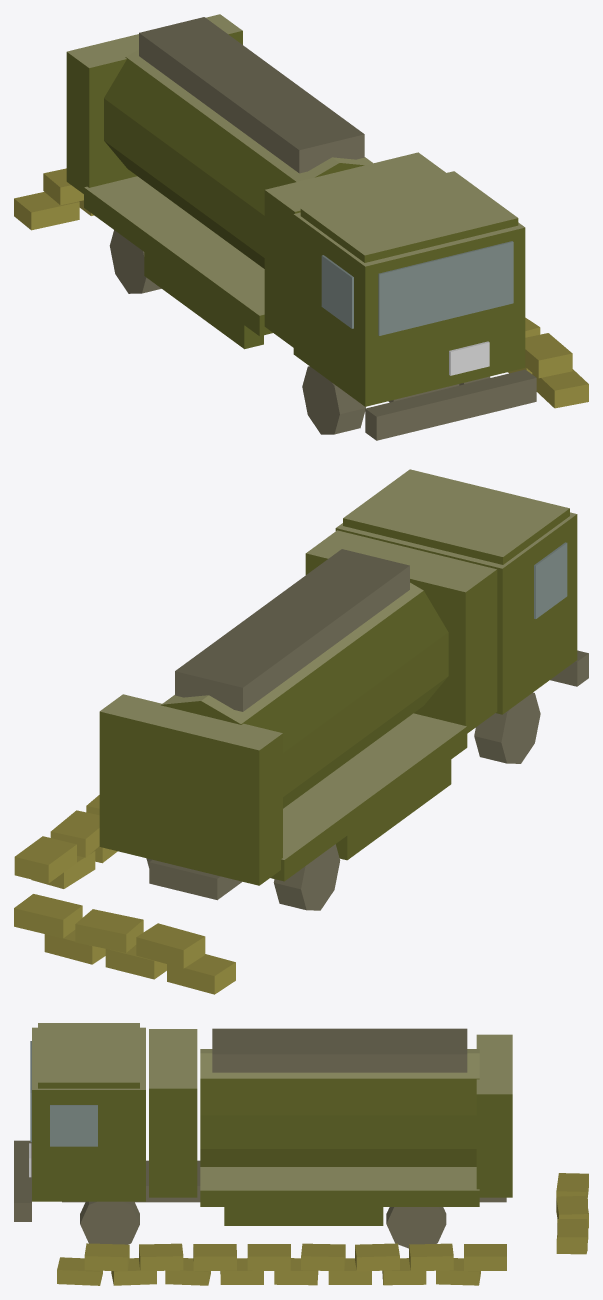
Rendered from SM_CamionCisterna_v2_Protegido_LOD1.fbx.
3 views of the same model, one above another, from view 1: azimuth 30°, elevation 25°; view 2: azimuth 150°, elevation 25°; view 3: azimuth 270°, elevation 25° (orthographic). The views are drawn at different scales.
Parts seen in each view (by area): view 1: SM_camion_cisterna_v2_LOD1; view 2: SM_camion_cisterna_v2_LOD1; view 3: SM_camion_cisterna_v2_LOD1.
Part boxes in pixels (box(x1,y1,x2,y2)): SM_camion_cisterna_v2_LOD1: box(14, 14, 588, 440); SM_camion_cisterna_v2_LOD1: box(14, 469, 588, 994); SM_camion_cisterna_v2_LOD1: box(14, 1023, 588, 1285).
Size of the model in its own units: 3.78 by 3.32 by 9.57.
